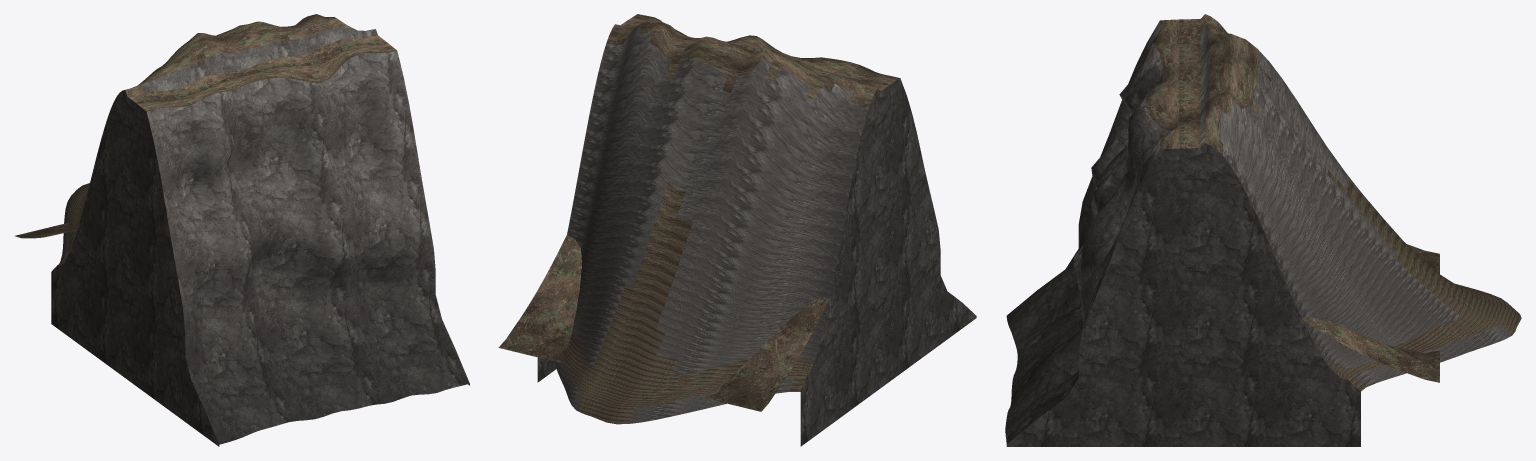
Rendered from seacliff_straight6b_h5_v5_autumn.glb.
3 views of the same model, side by side, from view 1: azimuth 30°, elevation 25°; view 2: azimuth 150°, elevation 25°; view 3: azimuth 270°, elevation 25° (orthographic). The views are drawn at different scales.
Parts seen in each view (by area): view 1: seacliff_straight6b_h5; view 2: seacliff_straight6b_h5; view 3: seacliff_straight6b_h5.
Boxes of the visible parts, x1,y1,x2,y2 form: seacliff_straight6b_h5: (15,14,469,446); seacliff_straight6b_h5: (498,14,976,446); seacliff_straight6b_h5: (1005,14,1521,446).
Size of the model in its own units: 6 by 7.16 by 10.14.
Materials: 2 (2 with a texture image).
